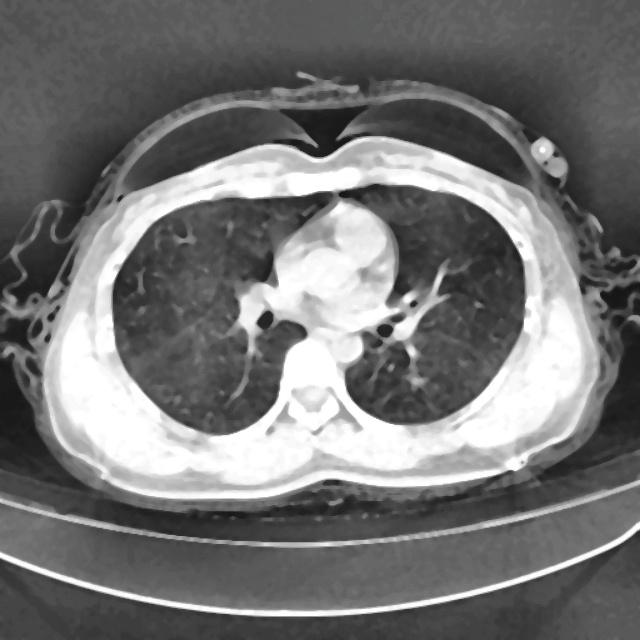covid: (2, 76, 636, 513)
